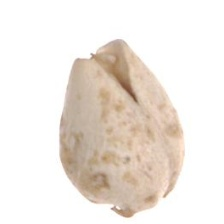L1: (75, 36, 135, 97), (103, 201, 156, 217)
L2: (58, 38, 185, 217)
